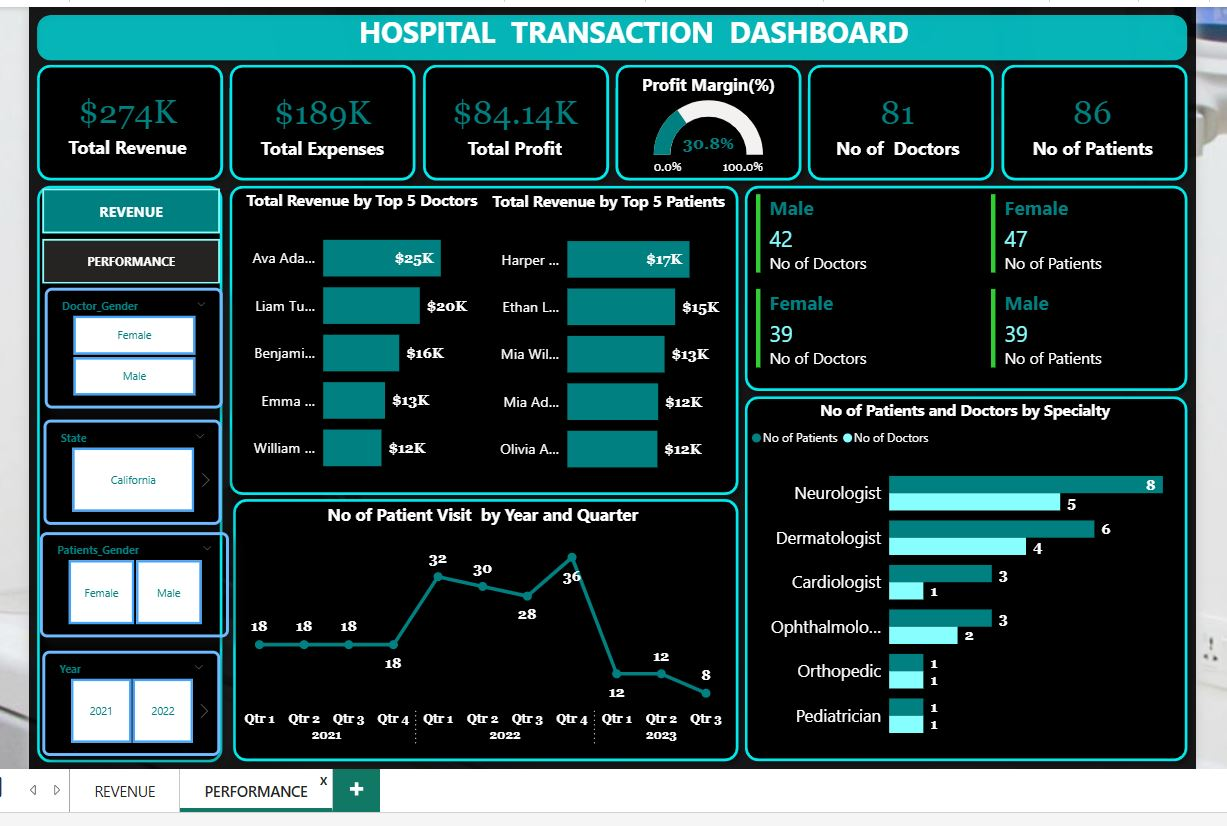

This screenshot's page, from the dashboard's own definition file:
{"tool":"powerbi","page":{"name":"PERFORMANCE","canvas":[1300,850],"ordinal":1},"visuals":[{"type":"shape","box":[0,0,1300,68.7],"z":0},{"type":"shape","box":[0,55.4,225.3,147],"z":1000},{"type":"shape","box":[214.9,55.4,225.3,147],"z":2000},{"type":"shape","box":[429.9,55.4,225.3,147],"z":3000},{"type":"shape","box":[644.8,55.4,225.3,147],"z":4000},{"type":"shape","box":[859.8,55.4,225.3,147],"z":5000},{"type":"shape","box":[1074.7,55.4,225.3,147],"z":6000},{"type":"shape","box":[0,189.9,224.6,660.9],"z":7000},{"type":"shape","box":[214.4,190.2,585.3,362.8],"z":8000},{"type":"shape","box":[218.5,539.5,581.3,310.2],"z":9000},{"type":"shape","box":[789,190.2,511.1,246.8],"z":10000},{"type":"shape","box":[789,424.8,511.1,424.8],"z":11000},{"type":"card","fields":{"Values":["CalculatedMeasures.Total Revenue"]},"box":[14.8,60.9,190.2,134.9],"z":12000},{"type":"card","fields":{"Values":["CalculatedMeasures.Total Expenses"]},"box":[232,62.2,190.2,133.5],"z":13000},{"type":"card","fields":{"Values":["CalculatedMeasures.Total Profit"]},"box":[446.4,62.2,190.2,133.5],"z":14000},{"type":"gauge","fields":{"Y":["CalculatedMeasures.Profit Margin(%)"]},"box":[662.2,74.4,190.2,121.4],"z":15000},{"type":"card","fields":{"Values":["Doctors Dim.DoctorID"]},"box":[869.9,62.2,196.9,133.5],"z":16000},{"type":"card","fields":{"Values":["Patients Dim.PatientID"]},"box":[1084.3,62.2,202.3,133.5],"z":17000},{"type":"lineChart","fields":{"Y":["Hospital Transaction (Fact Table).PatientID"],"Category":["Calender Dim.Date.Variation.Date Hierarchy.Year","Calender Dim.Date.Variation.Date Hierarchy.Quarter","Calender Dim.Date.Variation.Date Hierarchy.Month","Calender Dim.Date.Variation.Date Hierarchy.Day"]},"box":[232,553,547.6,279.2],"z":18000},{"type":"clusteredBarChart","title":"Total Revenue by Top 5 Doctors","fields":{"Y":["CalculatedMeasures.Total Revenue"],"Category":["Doctors Dim.Doctors Name"]},"box":[232,202.3,277.8,337.2],"z":19000},{"type":"slicer","fields":{"Values":["Doctors Dim.Doctor_Gender"]},"box":[17.5,312.9,198.3,134.9],"z":20000},{"type":"slicer","fields":{"Values":["Location Dim.State"]},"box":[16.2,459.9,198.3,117.3],"z":21000},{"type":"slicer","fields":{"Values":["Patients Dim.Patients_Gender"]},"box":[12.1,585.3,210.4,117.3],"z":22000},{"type":"slicer","fields":{"Values":["Calender Dim.Date.Variation.Date Hierarchy.Year"]},"box":[14.2,717.7,198.3,117.3],"z":23000},{"type":"clusteredBarChart","title":"Total Revenue by Top 5 Patients","fields":{"Y":["CalculatedMeasures.Total Revenue"],"Category":["Patients Dim.Patients Name"]},"box":[507.1,203.6,277.8,337.2],"z":24000},{"type":"clusteredBarChart","title":"No of Patients and Doctors by Specialty","fields":{"Category":["Doctors Dim.Specialty"],"Y":["Hospital Transaction (Fact Table).PatientID","Hospital Transaction (Fact Table).DoctorID"]},"box":[799.8,437,486.9,397.9],"z":25000},{"type":"multiRowCard","fields":{"Values":["Doctors Dim.Doctor_Gender","Doctors Dim.Doctor_Gender"]},"box":[805.2,203.6,218.5,221.2],"z":26000},{"type":"multiRowCard","fields":{"Values":["Patients Dim.Patients_Gender","Patients Dim.Patients_Gender"]},"box":[1066.8,203.6,218.5,221.2],"z":26001},{"type":"textbox","box":[275.1,0,855.1,56.6],"z":26002},{"type":"pageNavigator","box":[14.8,202.3,198.3,106.5],"z":26003}]}

Visuals, with their boxes in screenshot pixels (x1, y1, x2, y2):
shape: bbox=[26, 3, 1193, 65]
shape: bbox=[26, 53, 228, 185]
shape: bbox=[218, 53, 421, 185]
shape: bbox=[412, 53, 614, 185]
shape: bbox=[604, 53, 807, 185]
shape: bbox=[797, 53, 1000, 185]
shape: bbox=[990, 53, 1193, 185]
shape: bbox=[26, 174, 227, 767]
shape: bbox=[218, 174, 744, 500]
shape: bbox=[222, 488, 744, 766]
shape: bbox=[734, 174, 1193, 396]
shape: bbox=[734, 385, 1193, 766]
card - CalculatedMeasures.Total Revenue: bbox=[39, 58, 210, 179]
card - CalculatedMeasures.Total Expenses: bbox=[234, 59, 405, 179]
card - CalculatedMeasures.Total Profit: bbox=[426, 59, 597, 179]
gauge - CalculatedMeasures.Profit Margin(%): bbox=[620, 70, 791, 179]
card - Doctors Dim.DoctorID: bbox=[807, 59, 983, 179]
card - Patients Dim.PatientID: bbox=[999, 59, 1181, 179]
lineChart - Hospital Transaction (Fact Table).PatientID x Calender Dim.Date.Variation.Date Hierarchy.Year: bbox=[234, 500, 725, 750]
"Total Revenue by Top 5 Doctors" clusteredBarChart: bbox=[234, 185, 483, 488]
slicer - Doctors Dim.Doctor_Gender: bbox=[41, 284, 219, 405]
slicer - Location Dim.State: bbox=[40, 416, 218, 521]
slicer - Patients Dim.Patients_Gender: bbox=[36, 529, 225, 634]
slicer - Calender Dim.Date.Variation.Date Hierarchy.Year: bbox=[38, 648, 216, 753]
"Total Revenue by Top 5 Patients" clusteredBarChart: bbox=[481, 186, 730, 489]
"No of Patients and Doctors by Specialty" clusteredBarChart: bbox=[744, 396, 1181, 753]
multiRowCard - Doctors Dim.Doctor_Gender x Doctors Dim.Doctor_Gender: bbox=[748, 186, 945, 385]
multiRowCard - Patients Dim.Patients_Gender x Patients Dim.Patients_Gender: bbox=[983, 186, 1180, 385]
textbox: bbox=[273, 3, 1040, 54]
pageNavigator: bbox=[39, 185, 217, 280]
